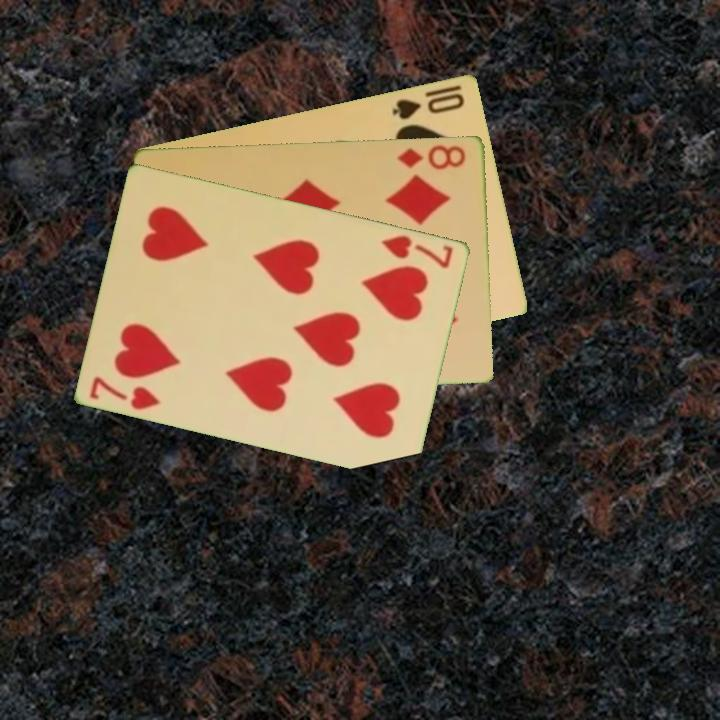10s: (389, 89, 468, 122)
7h: (86, 372, 164, 413), (378, 231, 456, 271)
8d: (394, 141, 469, 172)
